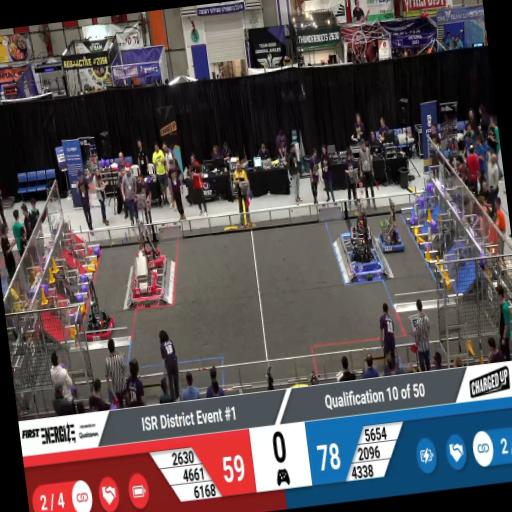robot: (373, 192, 404, 257), (131, 216, 165, 270), (82, 297, 116, 341), (128, 256, 160, 300), (346, 238, 380, 273), (346, 206, 374, 247)
